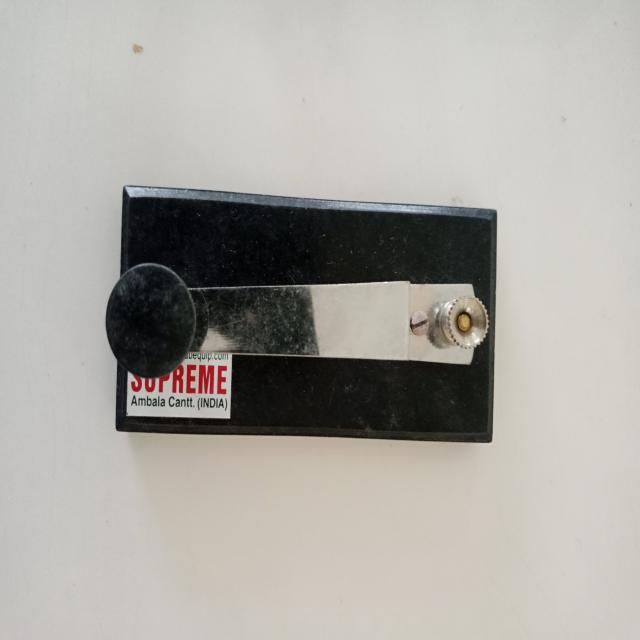Press Key: (101, 177, 519, 456)
